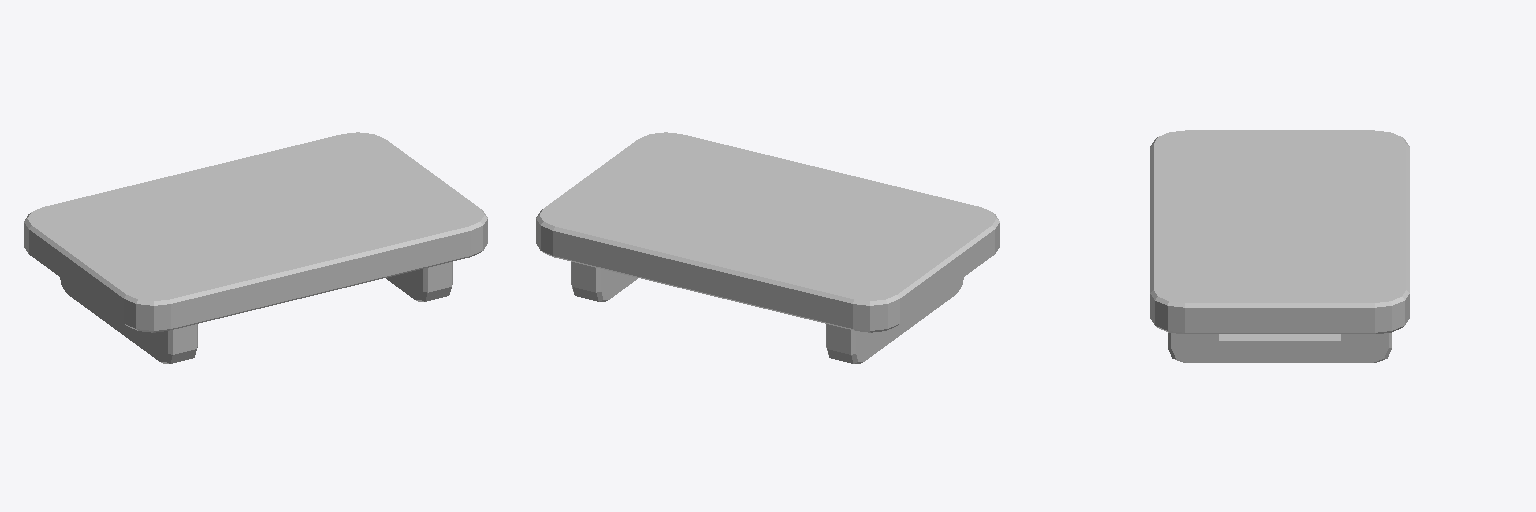
The model's file is table_low.obj.
3 renders of one model, left to right at view 1: azimuth 30°, elevation 25°; view 2: azimuth 150°, elevation 25°; view 3: azimuth 270°, elevation 25°, orthographic.
Visible parts, largest first — view 1: table_low_Cube.030; view 2: table_low_Cube.030; view 3: table_low_Cube.030.
Part boxes in pixels (bbox=[...]): table_low_Cube.030: bbox=[24, 132, 487, 363]; table_low_Cube.030: bbox=[536, 132, 999, 363]; table_low_Cube.030: bbox=[1150, 130, 1409, 362].
Bounding box in the file's own units: 2.4 × 0.5 × 1.5.